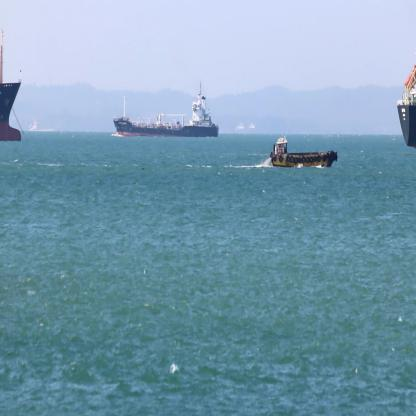Container Ship: (114, 79, 220, 138), (1, 28, 21, 143), (396, 61, 415, 149)
